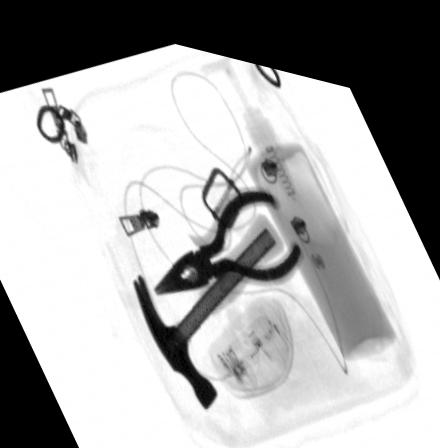Hammer: (133, 197, 286, 399)
Pliers: (154, 172, 304, 284)
